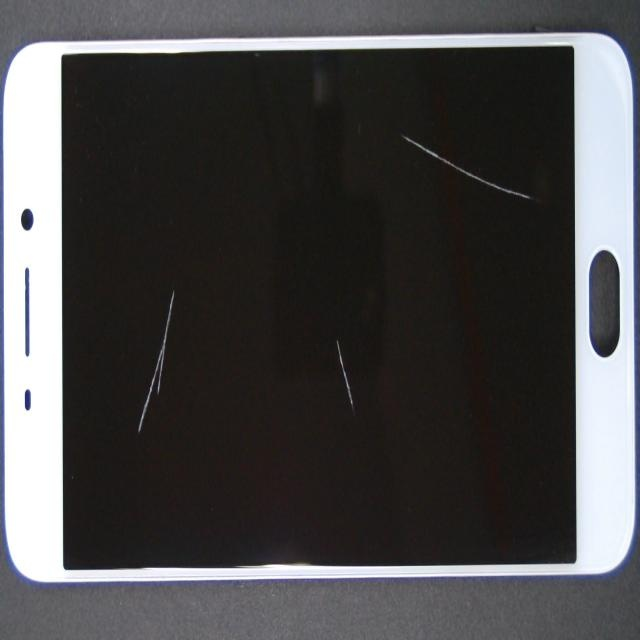scratch: (201, 254, 533, 560), (248, 135, 640, 327), (77, 251, 254, 523)
